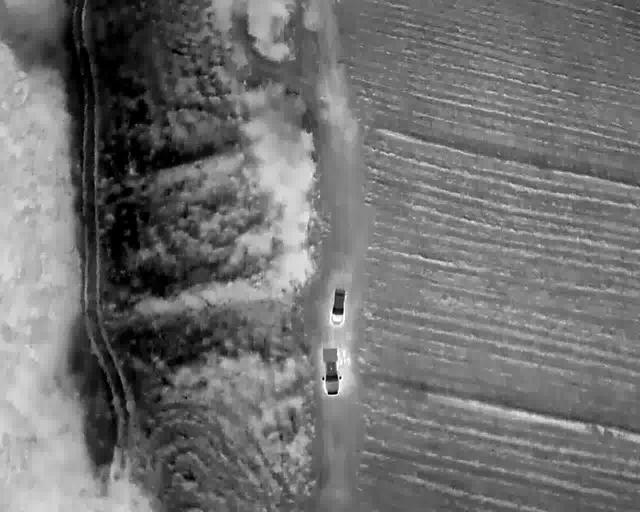car: (322, 347, 342, 396), (329, 288, 347, 326)
person: (339, 348, 345, 360), (344, 356, 350, 365)
